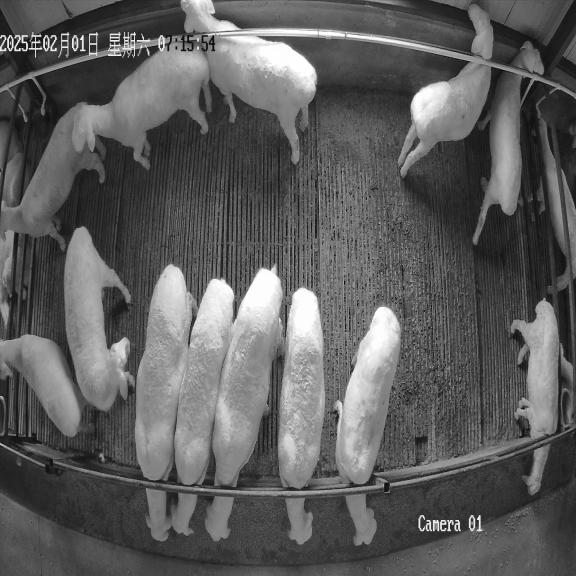eating: (205, 266, 284, 541), (135, 264, 197, 541), (171, 278, 234, 536), (335, 306, 400, 546), (278, 287, 325, 544), (511, 299, 559, 496)
stand: (180, 0, 317, 164), (398, 3, 493, 178), (72, 50, 210, 170), (0, 104, 106, 249), (473, 41, 544, 245), (64, 227, 134, 412), (0, 334, 94, 437)
